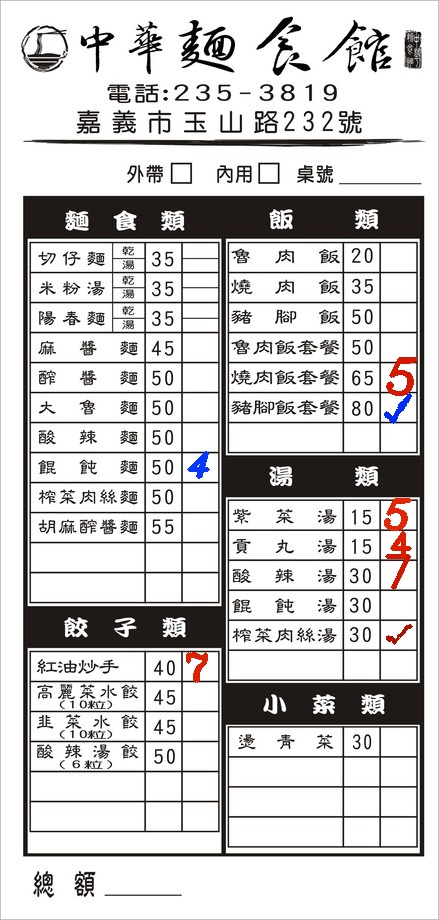marked_number_4: (380, 531, 416, 560), (179, 453, 215, 482)
marked_number_5: (381, 360, 417, 389), (381, 500, 417, 529)
marked_number_7: (380, 561, 416, 590), (182, 651, 218, 680)
marked_tick: (380, 619, 416, 648), (381, 393, 417, 422)
